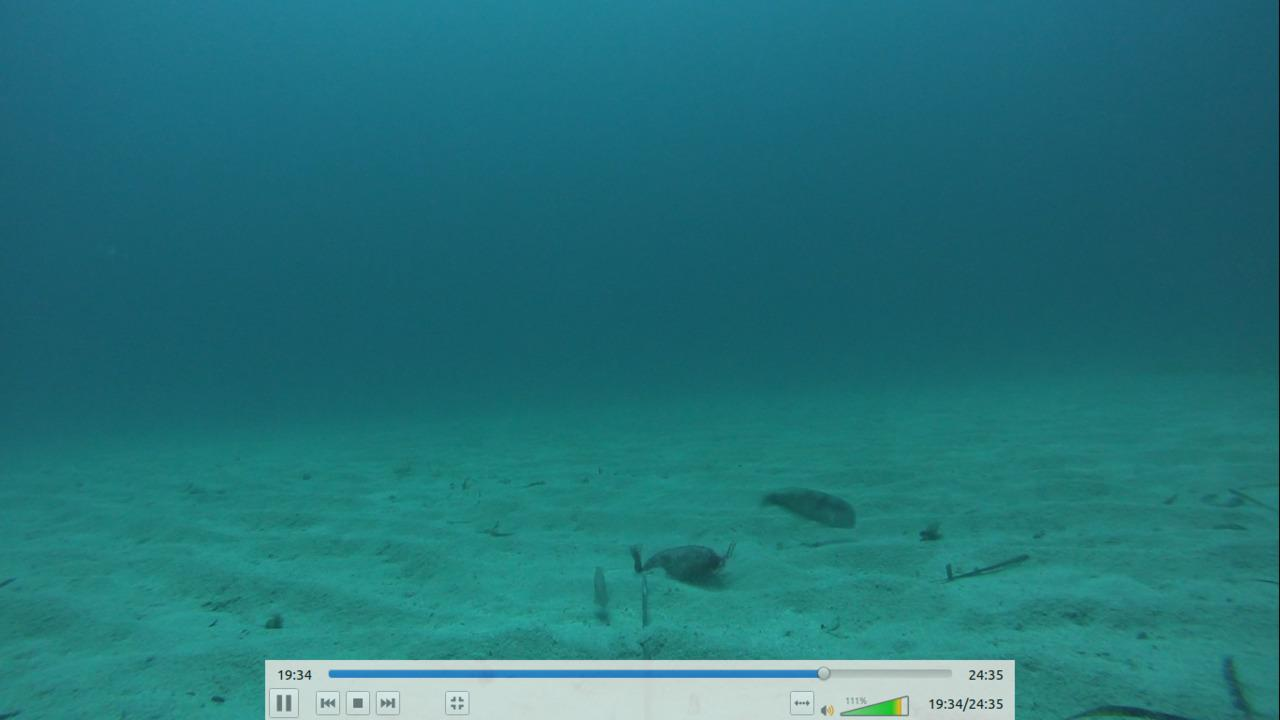raor: (751, 484, 856, 530), (589, 566, 609, 608)
